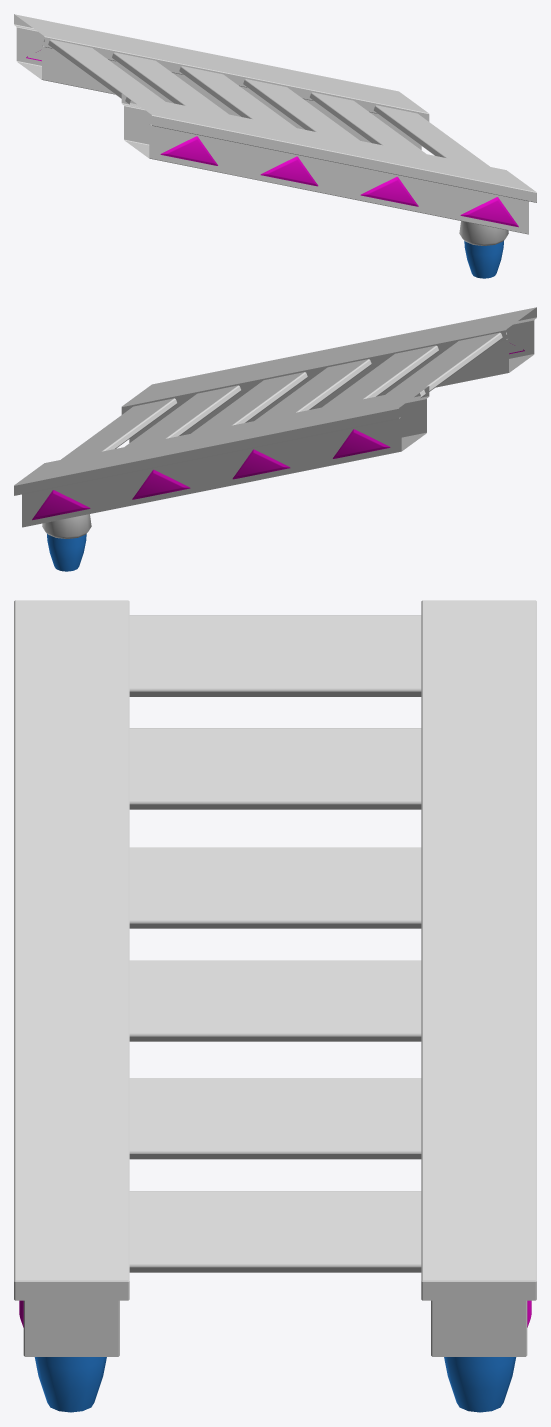
The model's file is SM_Platform_01.fbx.
The picture shows the model from 3 angles, top to bottom: view 1: azimuth 30°, elevation 25°; view 2: azimuth 150°, elevation 25°; view 3: azimuth 270°, elevation 25°; orthographic projection. The views are drawn at different scales.
Visible parts, largest first — view 1: SM_Platform_01; view 2: SM_Platform_01; view 3: SM_Platform_01.
Boxes of the visible parts, left/top/right/bottom form: SM_Platform_01: left=14, top=14, right=536, bottom=278; SM_Platform_01: left=14, top=307, right=536, bottom=571; SM_Platform_01: left=14, top=600, right=536, bottom=1412.
Bounding box in the file's own units: 1415 × 892 × 878.
